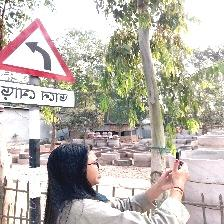Right-turn: (0, 18, 77, 109)
